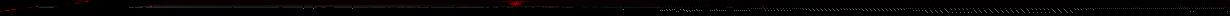Blue cone: (74, 2, 80, 4), (28, 7, 35, 8)
Yellow cone: (506, 1, 525, 6), (760, 6, 771, 8)
